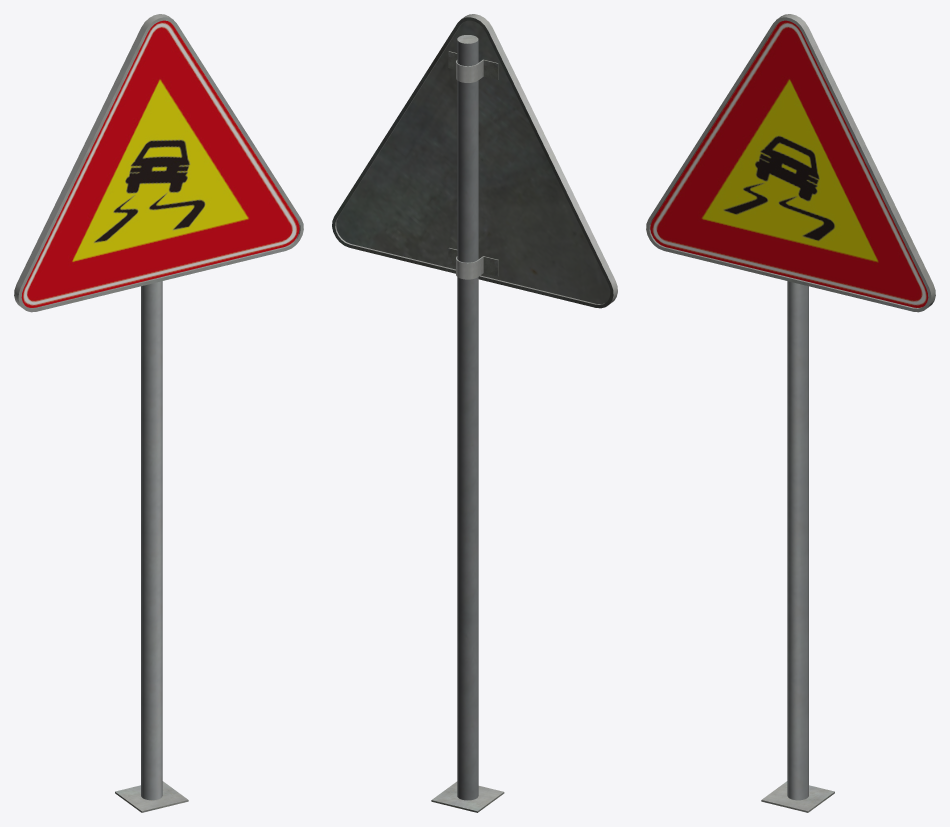
The picture shows the model from 3 angles, left to right: view 1: azimuth 30°, elevation 25°; view 2: azimuth 150°, elevation 25°; view 3: azimuth 330°, elevation 25°; orthographic projection.
Visible parts, largest first — view 1: MainBuilding; view 2: MainBuilding; view 3: MainBuilding.
Boxes of the visible parts, left/top/right/bottom form: MainBuilding: left=14, top=14, right=303, bottom=812; MainBuilding: left=332, top=14, right=617, bottom=812; MainBuilding: left=646, top=14, right=935, bottom=812.
Size of the model in its own units: 0.9151 by 2.41 by 0.15.
1 material, 1 textured.
